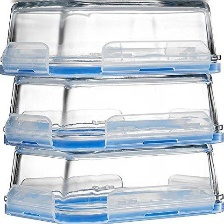plastic_box: (0, 67, 224, 156), (0, 138, 224, 224), (0, 0, 224, 82)
